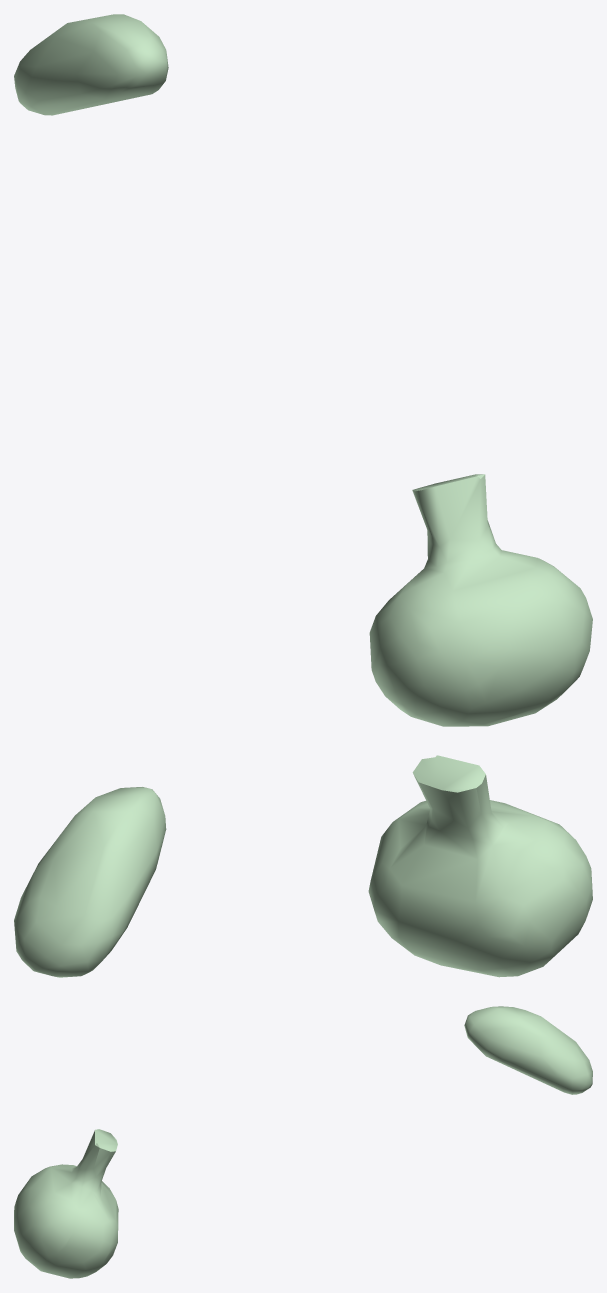
The model's file is endocrine-tete.lo.glb.
3 renders of one model, top to bottom at view 1: azimuth 30°, elevation 25°; view 2: azimuth 150°, elevation 25°; view 3: azimuth 270°, elevation 25°, orthographic. The views are drawn at different scales.
Parts seen in each view (by area): view 1: FJ1796, FJ1795; view 2: FJ1796, FJ1795; view 3: FJ1796, FJ1795.
Boxes of the visible parts, x1,y1,x2,y2 form: FJ1796: (369, 474, 592, 726); FJ1795: (14, 14, 168, 115); FJ1796: (368, 755, 592, 977); FJ1795: (14, 787, 166, 977); FJ1796: (14, 1129, 118, 1278); FJ1795: (464, 1006, 592, 1094).
Size of the model in its own units: 0.0123 by 0.0253 by 0.0513.
